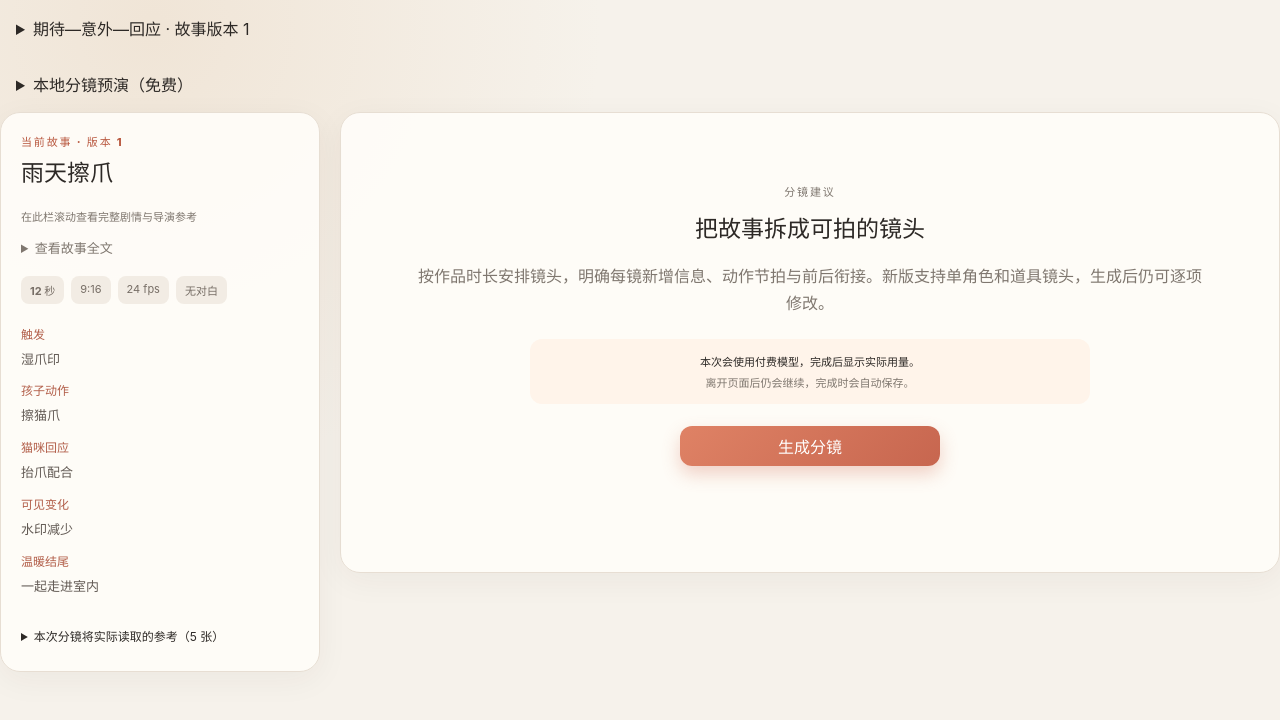
StoryboardStep › does not discard the request key for a different conflict
The image size is (1280, 720).
Click the button with test id "generate-director-plan" at (810, 446), box [680,426,940,466]
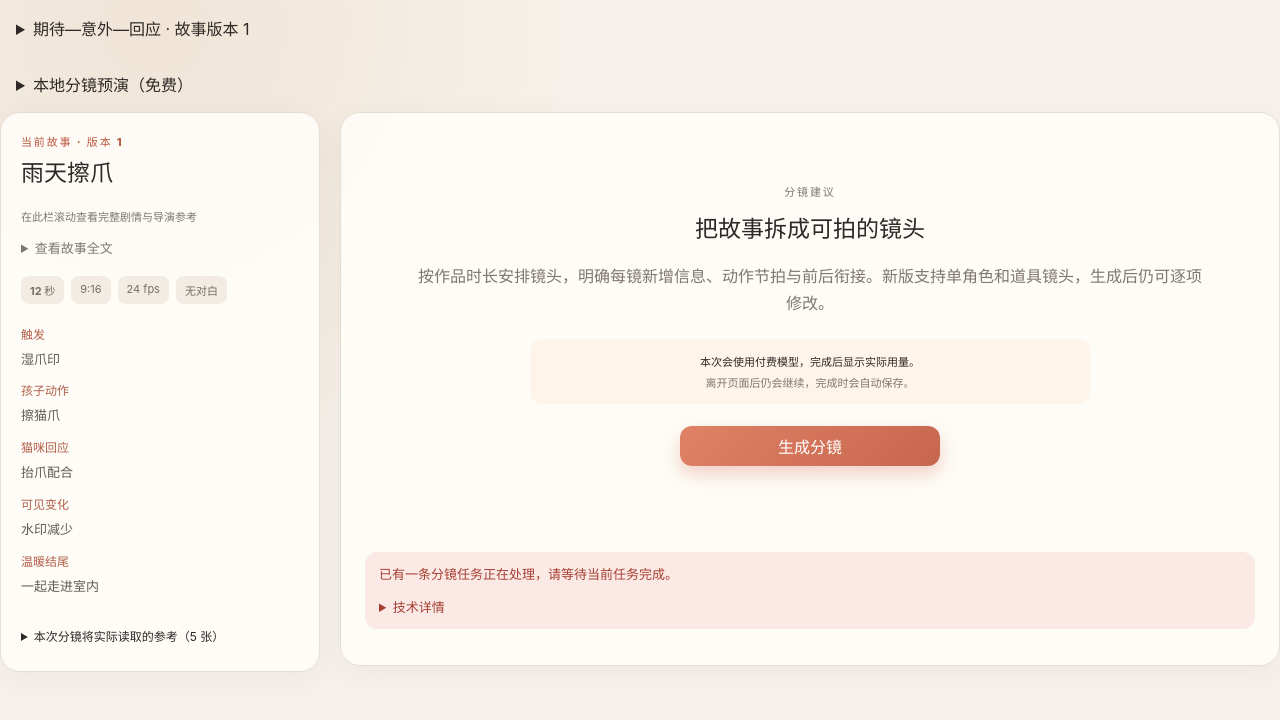
Expected: the text "已有一条分镜任务正在处理，请等待当前任务完成" is shown, [379,566,678,582]
